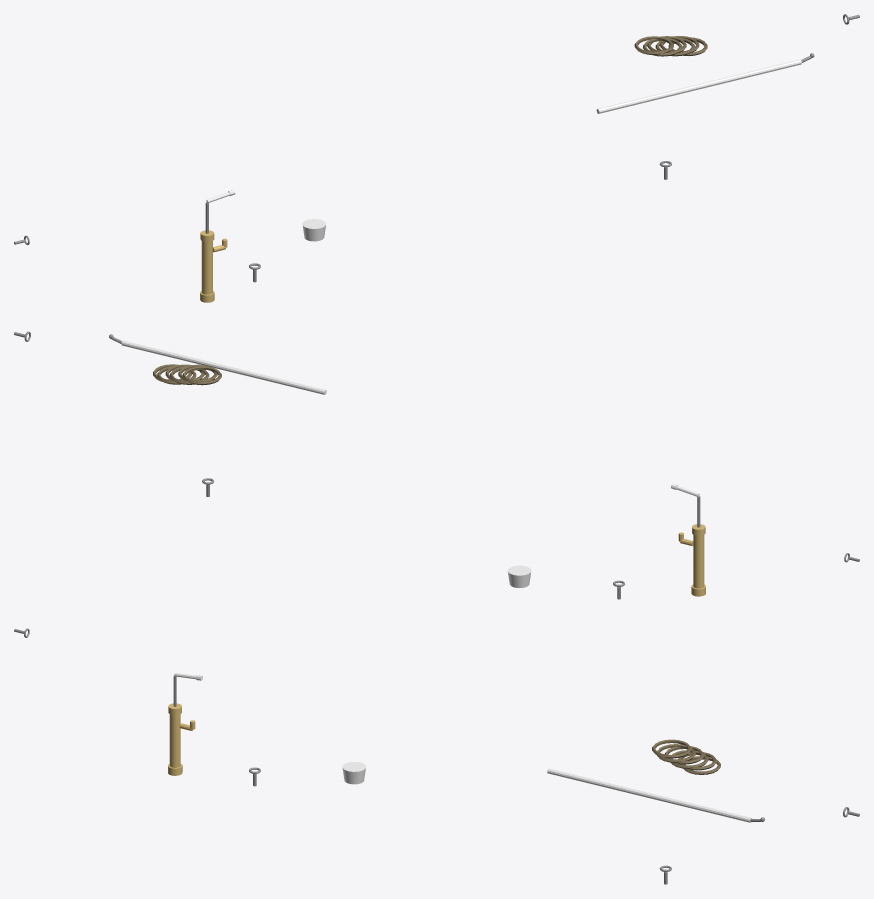
Rendered from Fittings.glb.
The picture shows the model from 3 angles, top to bottom: view 1: azimuth 30°, elevation 25°; view 2: azimuth 150°, elevation 25°; view 3: azimuth 330°, elevation 25°; orthographic projection.
Parts seen in each view (by area): view 1: Fittings; view 2: Fittings; view 3: Fittings.
Part boxes in pixels (x1,y1,x2,y2): Fittings: [14, 14, 859, 302]; Fittings: [14, 331, 859, 599]; Fittings: [14, 628, 859, 884].
Size of the model in its own units: 7.29 by 1.09 by 0.78.
